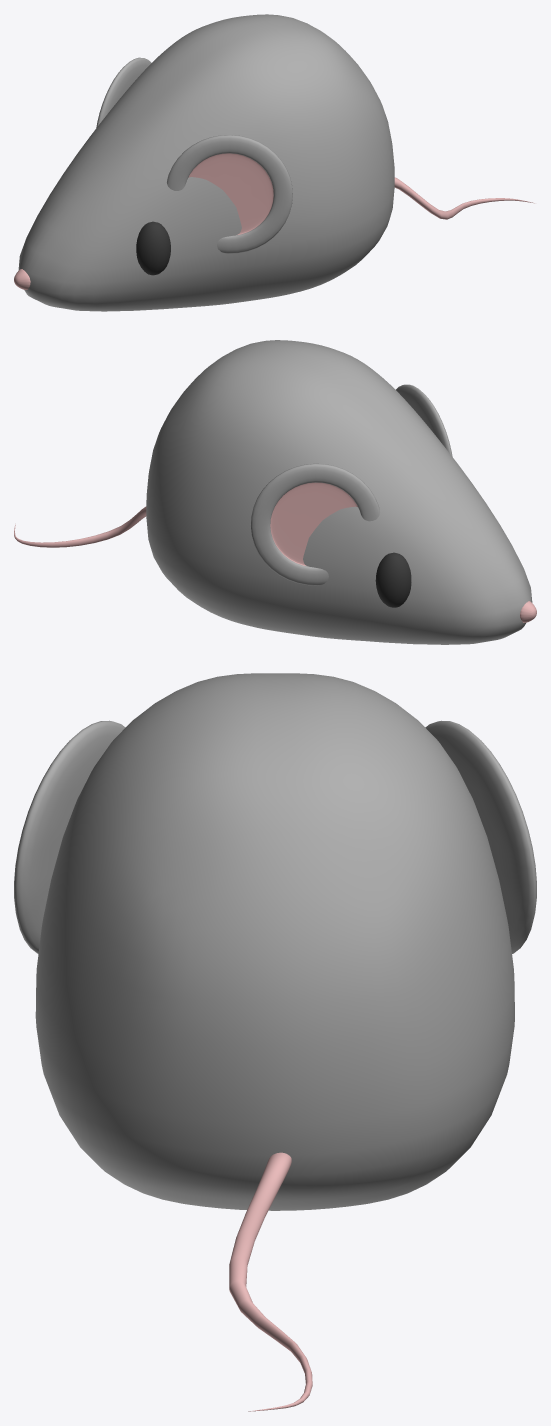
Rendered from Mouse.fbx.
3 renders of one model, top to bottom at view 1: azimuth 30°, elevation 25°; view 2: azimuth 150°, elevation 25°; view 3: azimuth 270°, elevation 25°, orthographic. The views are drawn at different scales.
Visible parts, largest first — view 1: nurbsCircle3; view 2: nurbsCircle3; view 3: nurbsCircle3.
Part boxes in pixels (x1,y1,x2,y2): nurbsCircle3: (14, 14, 534, 311); nurbsCircle3: (14, 340, 536, 644); nurbsCircle3: (14, 673, 536, 1411).
Size of the model in its own units: 3.73 by 1.71 by 1.71.
